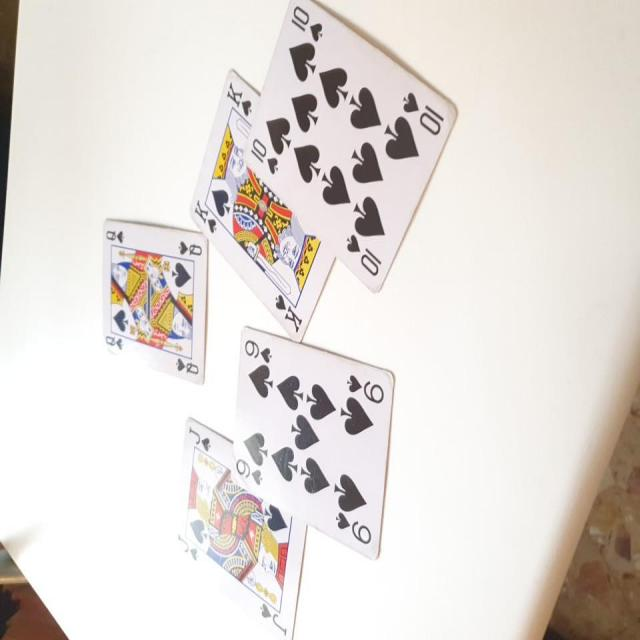10 Spades: (242, 2, 459, 301)
9 Spades: (224, 322, 388, 564)
J Spades: (165, 415, 308, 640)
K Spades: (192, 66, 352, 349)
Q Spades: (96, 213, 213, 378)
